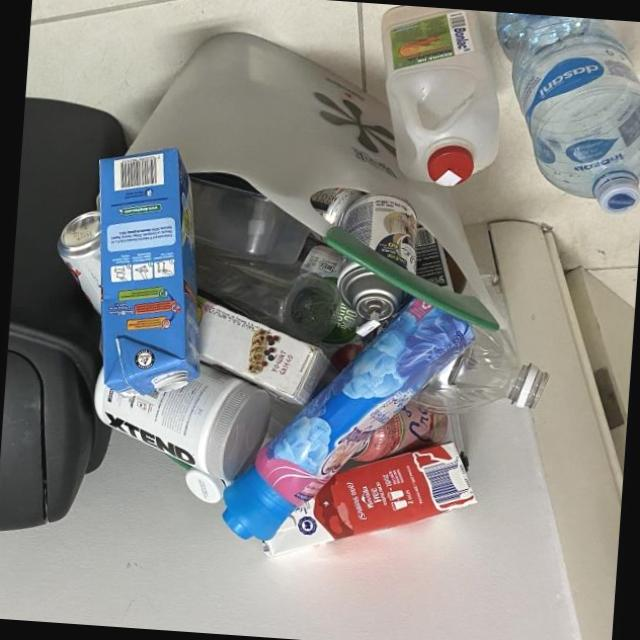carton: (198, 301, 340, 405)
chai_nhua: (222, 298, 476, 540)
chai_nhua_pet: (496, 12, 640, 214), (406, 324, 550, 414)
hop_nhua: (381, 5, 501, 186), (94, 363, 271, 482), (188, 171, 311, 264)
nhom: (341, 194, 418, 273), (338, 261, 416, 336), (352, 401, 448, 461), (57, 209, 101, 314)
vo_hop_sua: (96, 145, 202, 398), (263, 441, 478, 557)
